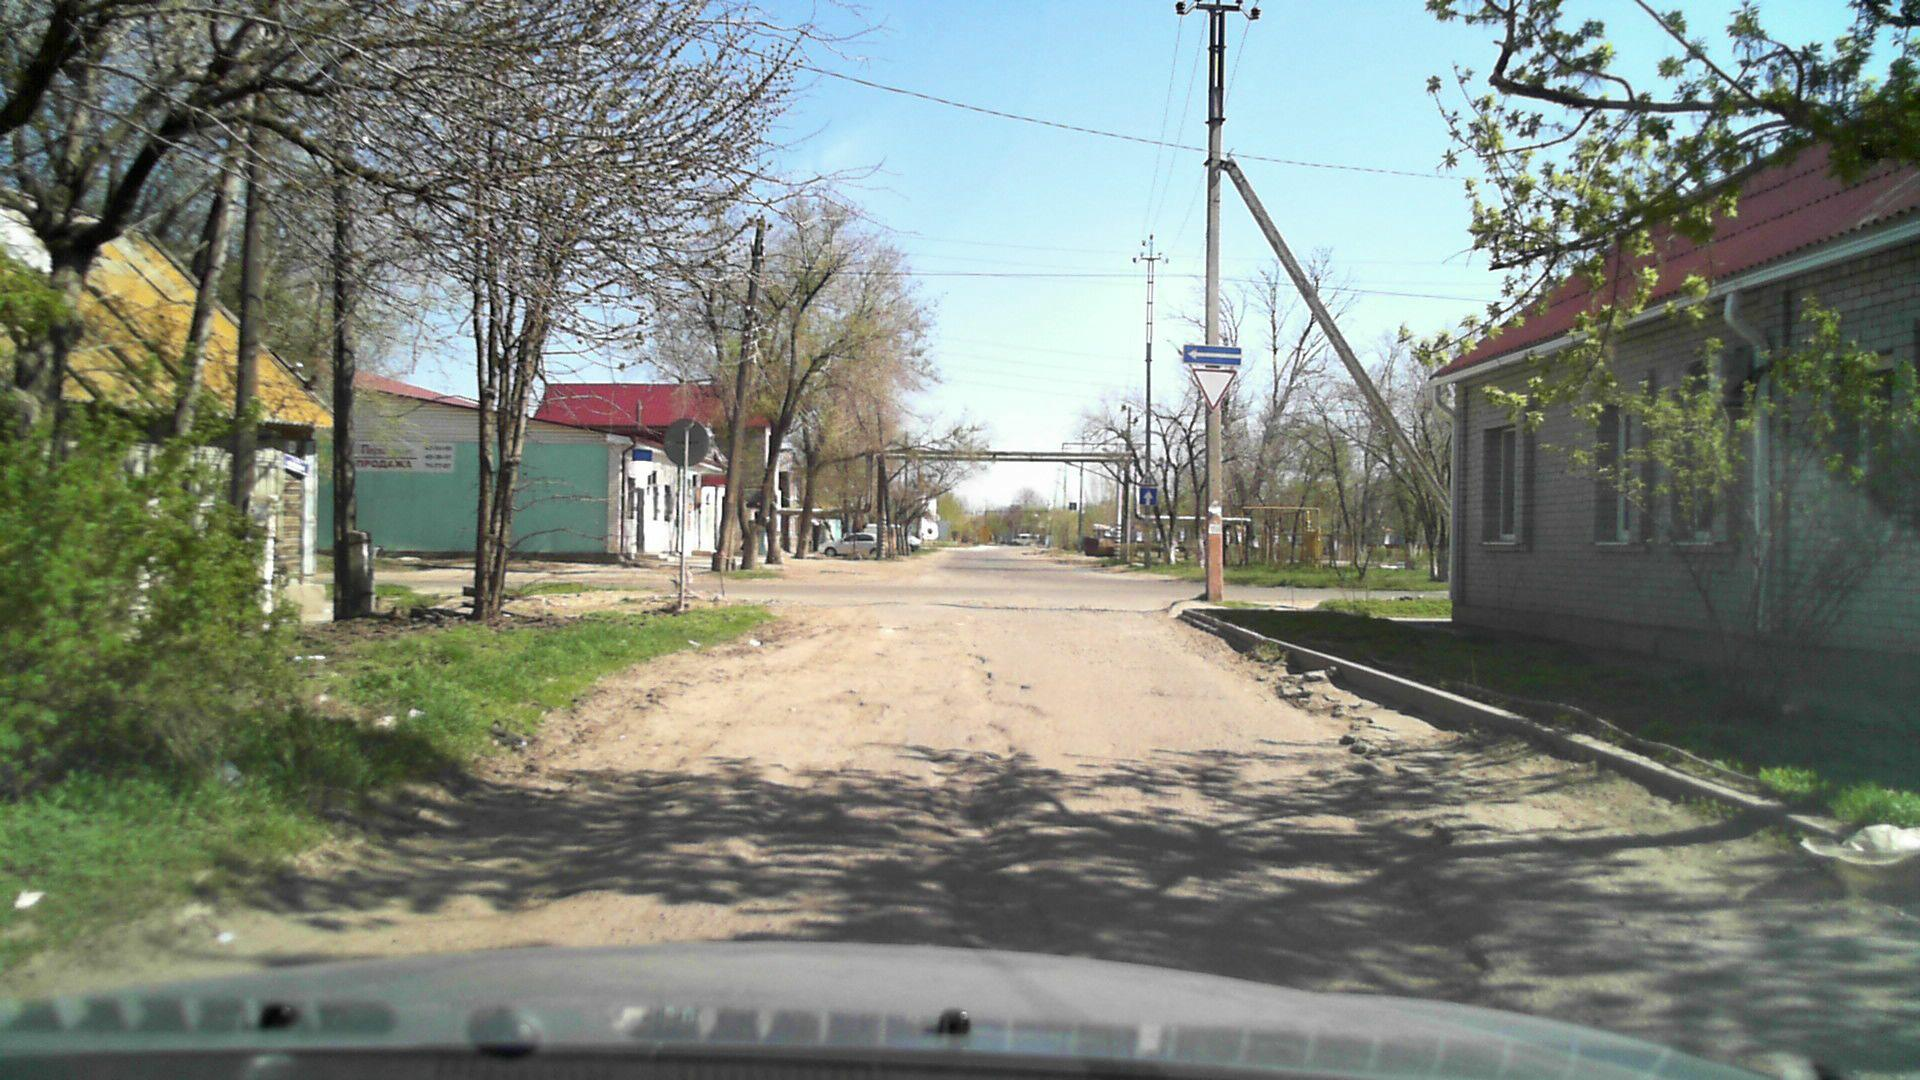1_21: (1137, 469, 1160, 487)
2_4: (1193, 368, 1238, 409)
5_5: (1139, 489, 1155, 506)
5_6: (1068, 500, 1079, 510)
5_7_2: (1183, 343, 1244, 367)
